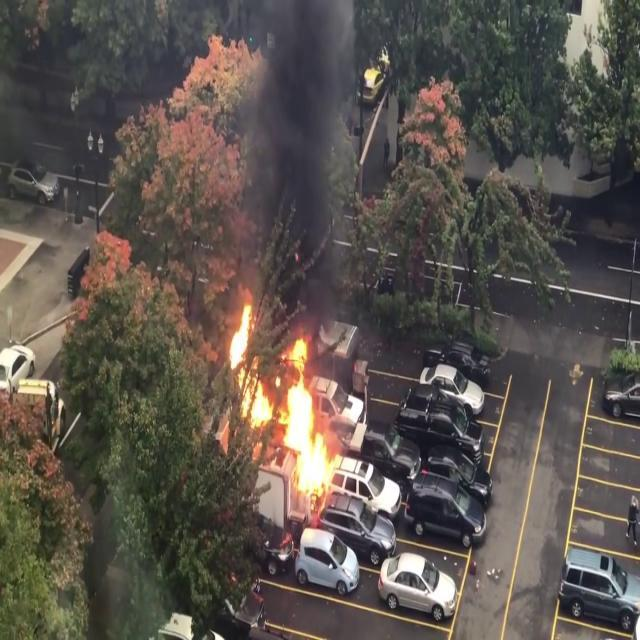Fire: (222, 293, 348, 507)
Smoke: (272, 0, 352, 299)
